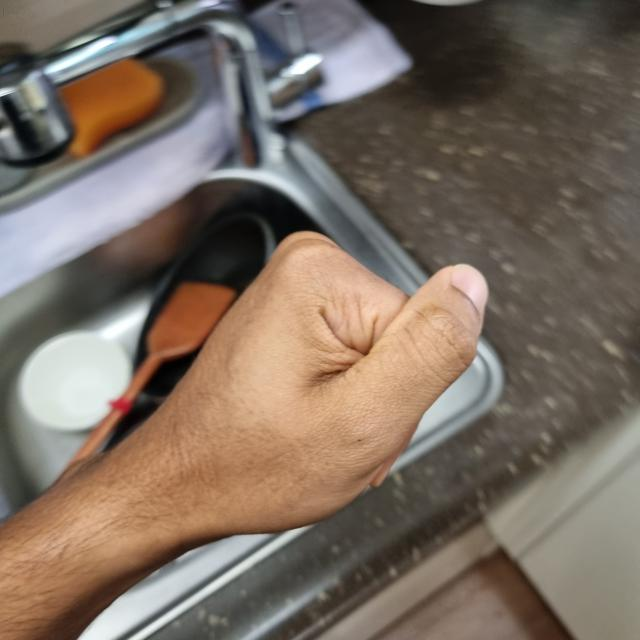Rock: (131, 240, 487, 539)
